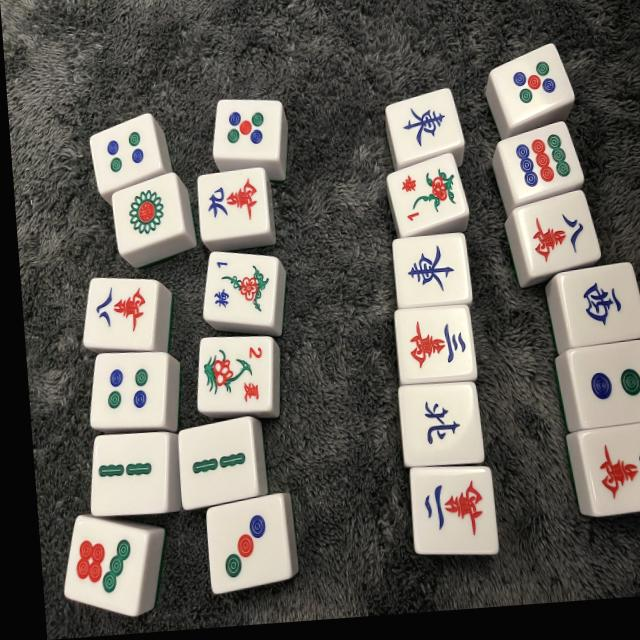1D: (109, 172, 186, 254)
1F: (200, 249, 282, 330)
1S: (387, 153, 467, 236)
2B: (175, 417, 263, 510), (86, 429, 176, 518)
2C: (415, 467, 497, 550)
2D: (567, 338, 640, 431)
2S: (193, 333, 276, 415)
3C: (395, 306, 475, 383)
3D: (204, 494, 292, 595)
4C: (578, 421, 640, 517)
4D: (88, 351, 174, 431), (88, 112, 166, 195)
5D: (489, 40, 578, 126), (210, 95, 287, 164)
7D: (60, 510, 156, 622)
8C: (81, 274, 165, 355), (523, 204, 590, 266)
9C: (197, 168, 270, 241)
9D: (498, 120, 586, 203)
EW: (385, 88, 466, 168), (394, 235, 470, 308)
NW: (399, 383, 481, 464)
WW: (560, 263, 640, 350)
